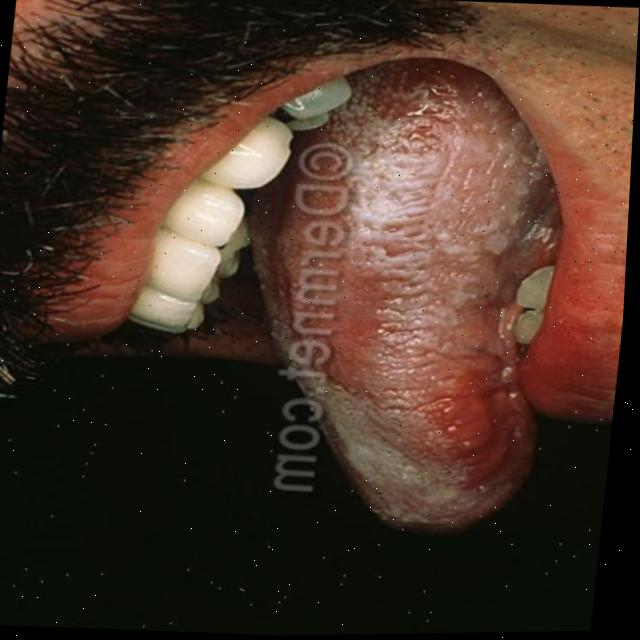Shingles: (325, 94, 501, 359), (312, 351, 500, 530)
